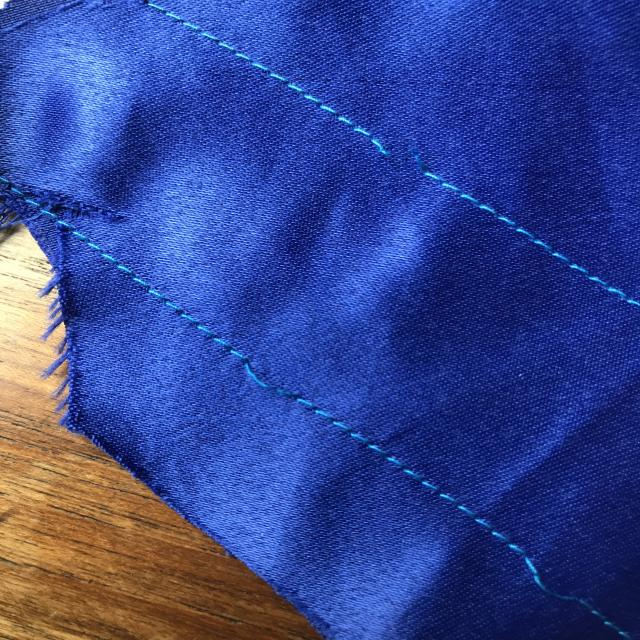broken: (360, 120, 454, 197)
good: (336, 446, 474, 528)
